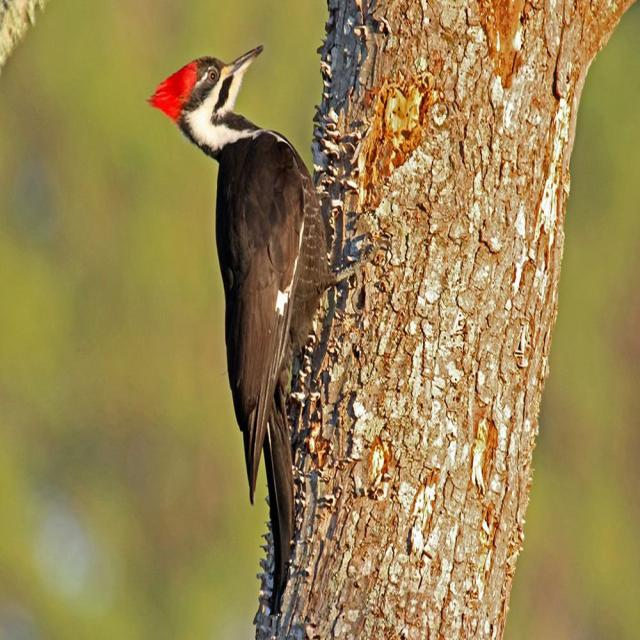Woodpecker: (151, 39, 328, 613)
